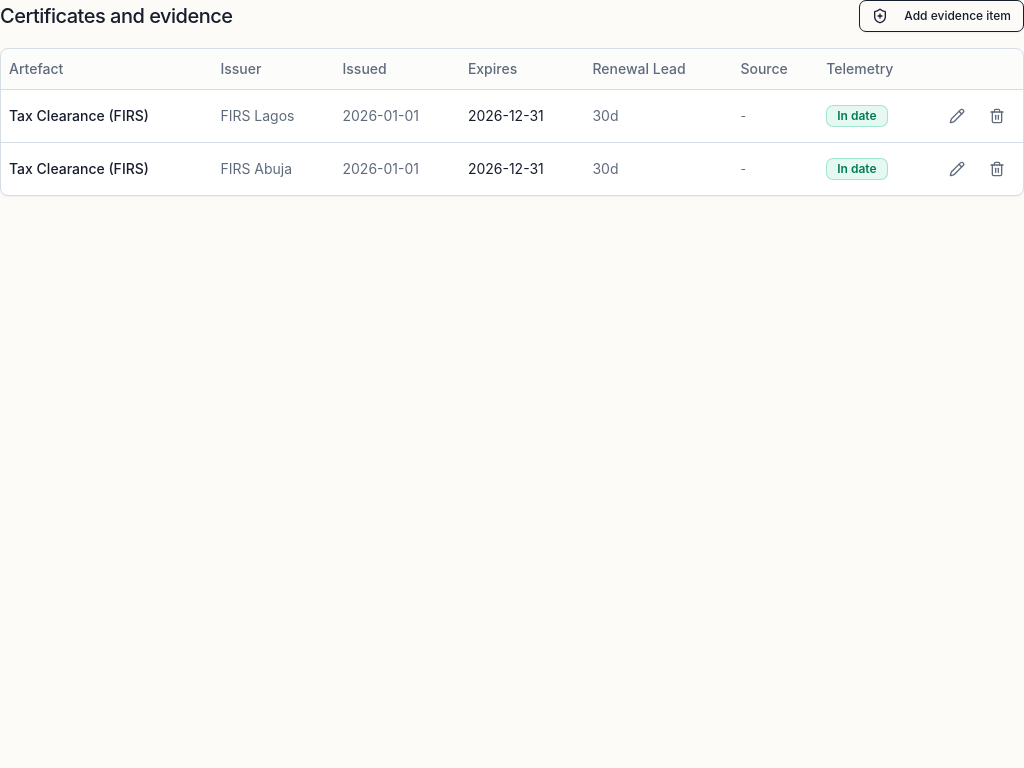
Test case: ClientVault interaction safeguards › identifies the chosen duplicate-label record by issuer, version and stable ID
What coordinates should you click on to do the following:
click the button named "Delete Tax Clearance (FIRS) — FIRS Abuja · version 7 · ID va"
I would click on:
 (997, 168)
Its box is x1=979 y1=150 x2=1015 y2=186.
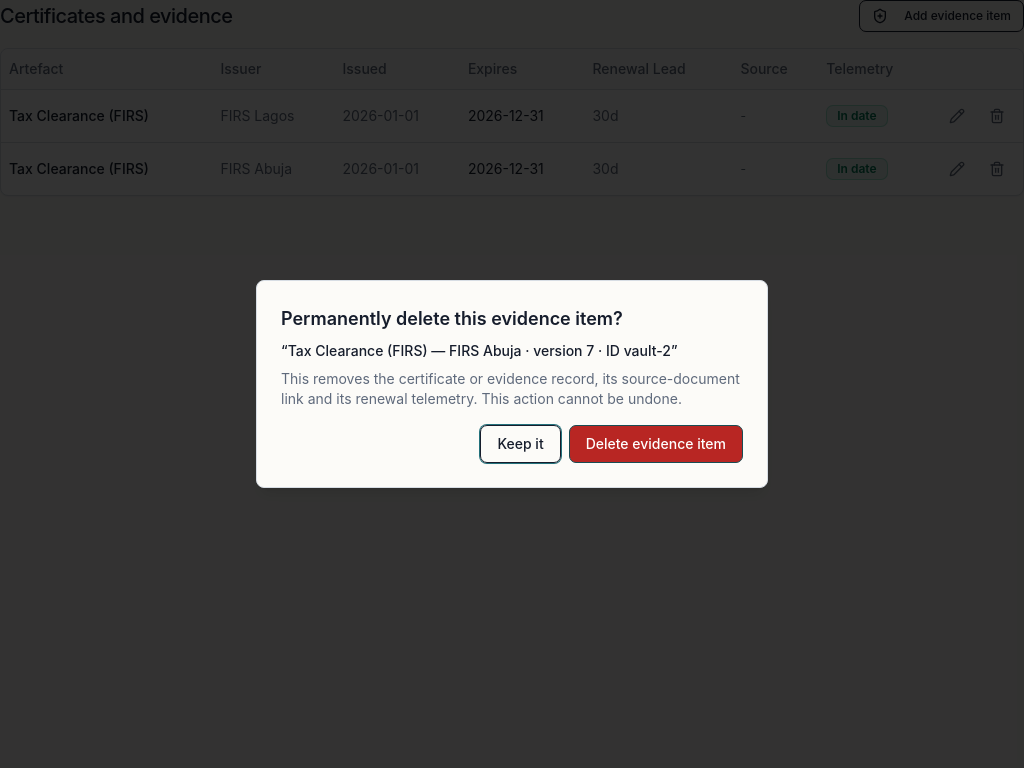
Result: the dialog shows "FIRS Abuja" at x1=288 y1=342 x2=671 y2=359
Result: the dialog shows "version 7" at x1=288 y1=342 x2=671 y2=359
Result: the dialog shows "ID vault-2" at x1=288 y1=342 x2=671 y2=359
